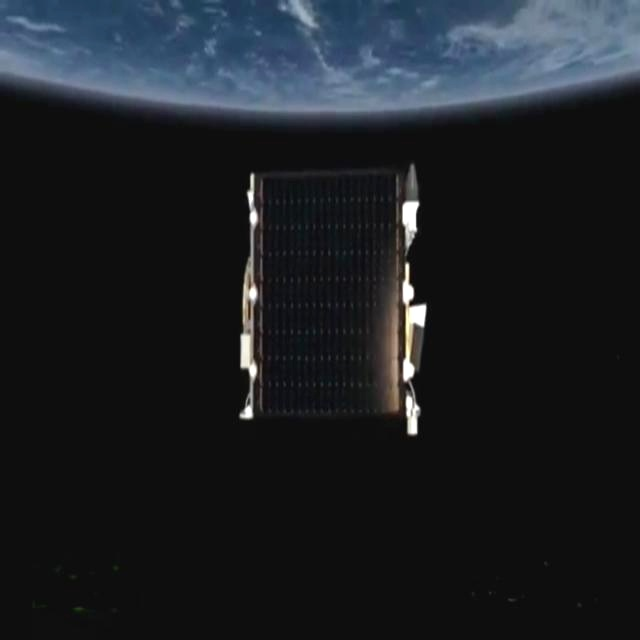medium_debris: (224, 147, 434, 462)
